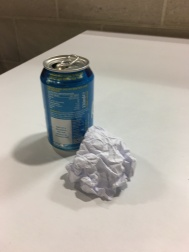can_blue: (34, 49, 97, 152)
paper_white: (65, 124, 136, 212)
